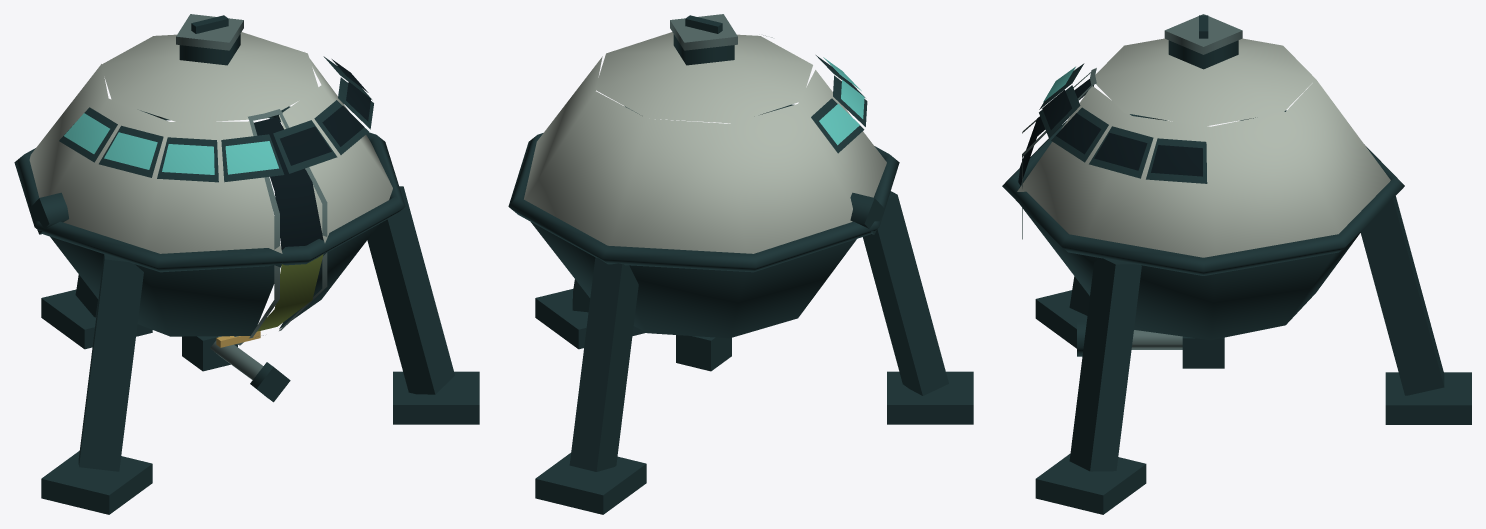
File: yushi045_container_d0_lod2.meshopt.glb
The picture shows the model from 3 angles, left to right: view 1: azimuth 30°, elevation 25°; view 2: azimuth 150°, elevation 25°; view 3: azimuth 270°, elevation 25°; orthographic projection.
Parts seen in each view (by area): view 1: YUSHI_BODY; view 2: YUSHI_BODY; view 3: YUSHI_BODY.
Boxes of the visible parts, x1,y1,x2,y2 form: YUSHI_BODY: (14, 14, 479, 514); YUSHI_BODY: (508, 14, 973, 514); YUSHI_BODY: (1002, 14, 1471, 514).
Size of the model in its own units: 3.74 by 3.15 by 3.49.
